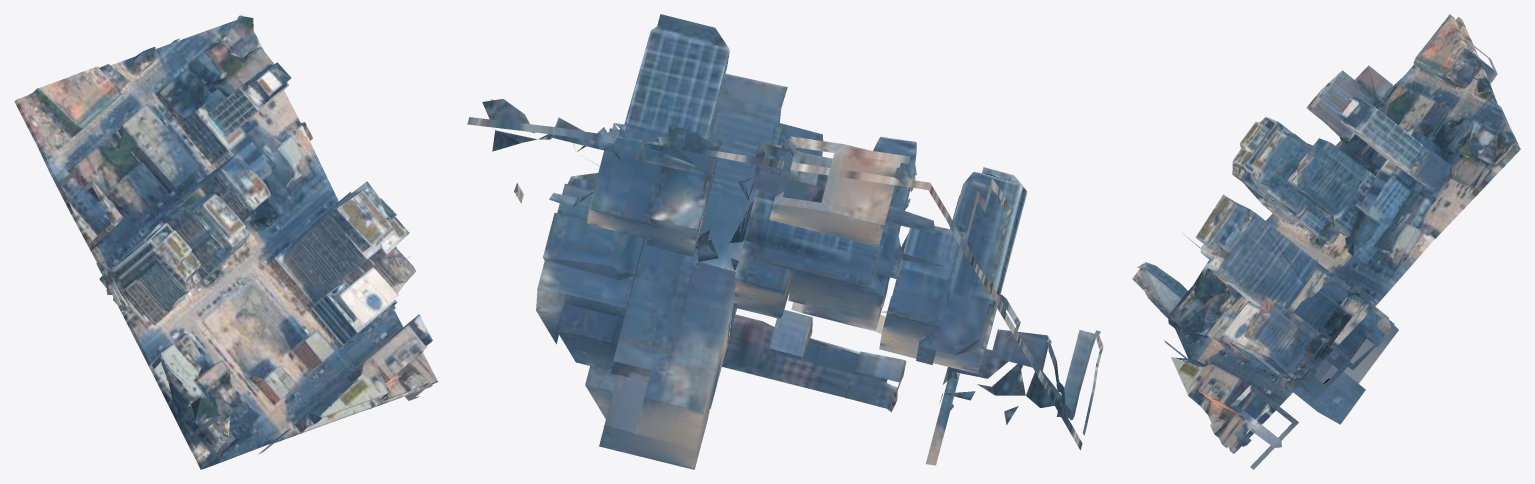
Rendered from AJVsH2zLnQg29rFDVQRDDAsCigYIehCvf8Z0iqoP0UtfBnAxf0vmGA-BJrw1T7KFdyZdL58CkKW9tEPK6W0-fkvoglQ-7sys6J493cZMmCP6VPxVvtI7GEx8TUVGC5tQsoqif8nXCbuD3hha_SahaR9rPYPniGhvMw.glb.
3 views of the same model, side by side, from view 1: azimuth 30°, elevation 25°; view 2: azimuth 150°, elevation 25°; view 3: azimuth 270°, elevation 25° (orthographic). The views are drawn at different scales.
Bounding box in the file's own units: 260 × 255 × 278.
Materials: 2 (2 with a texture image).
